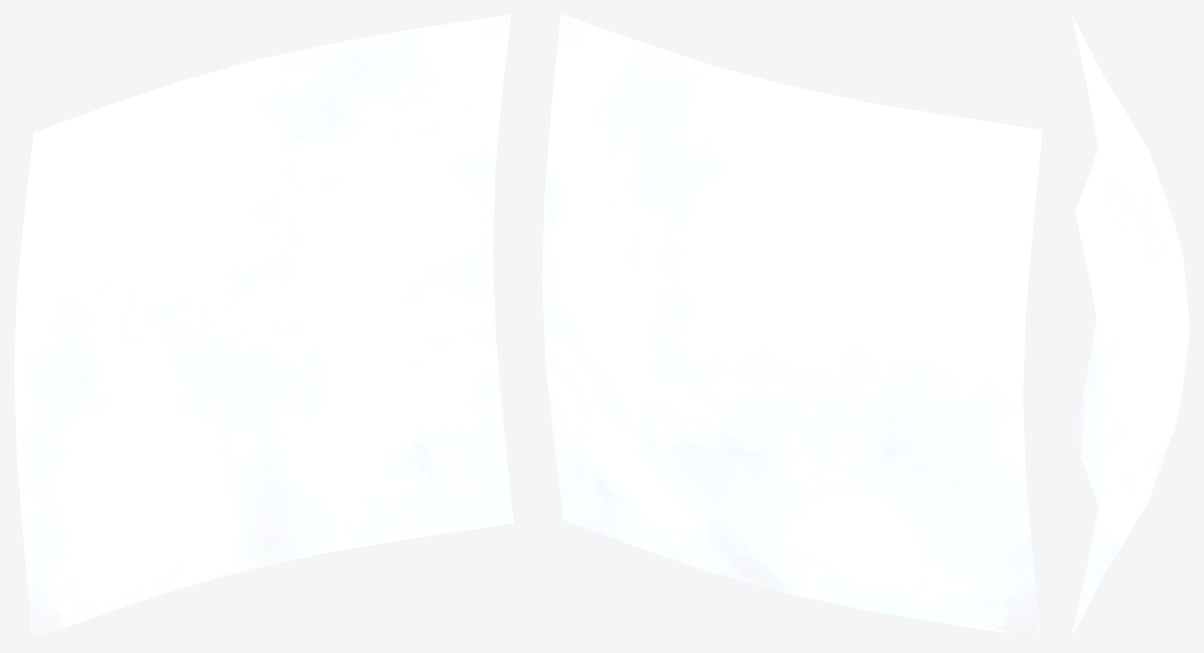
The model's file is bg_solarian4_3db.gltf.
3 renders of one model, left to right at view 1: azimuth 30°, elevation 25°; view 2: azimuth 150°, elevation 25°; view 3: azimuth 270°, elevation 25°, orthographic. The views are drawn at different scales.
Parts seen in each view (by area): view 1: bg_solarian4.3db; view 2: bg_solarian4.3db; view 3: bg_solarian4.3db.
Part boxes in pixels (x1,y1,x2,y2): bg_solarian4.3db: (14, 14, 513, 638); bg_solarian4.3db: (542, 14, 1042, 638); bg_solarian4.3db: (1071, 15, 1189, 637).
Size of the model in its own units: 73.75 by 74.6 by 18.8.
4 materials, 4 textured.
